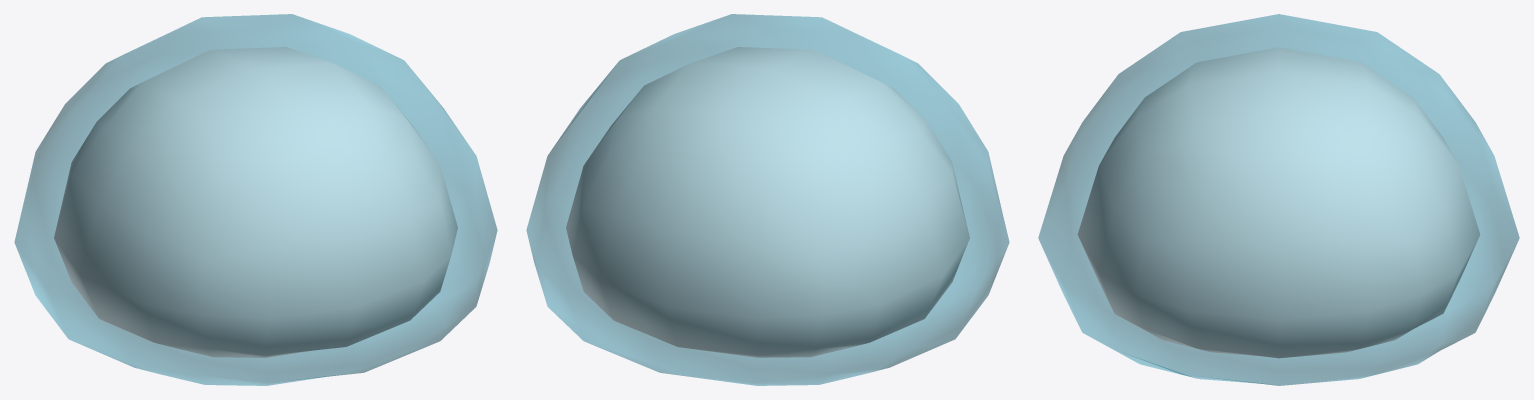
File: Slime.fbx
The picture shows the model from 3 angles, left to right: view 1: azimuth 30°, elevation 25°; view 2: azimuth 150°, elevation 25°; view 3: azimuth 270°, elevation 25°; orthographic projection.
Visible parts, largest first — view 1: Cube; view 2: Cube; view 3: Cube.
Part boxes in pixels (bbox=[...]): Cube: bbox=[14, 14, 497, 385]; Cube: bbox=[526, 14, 1009, 385]; Cube: bbox=[1038, 14, 1519, 385].
Bounding box in the file's own units: 50 × 31.51 × 50.
